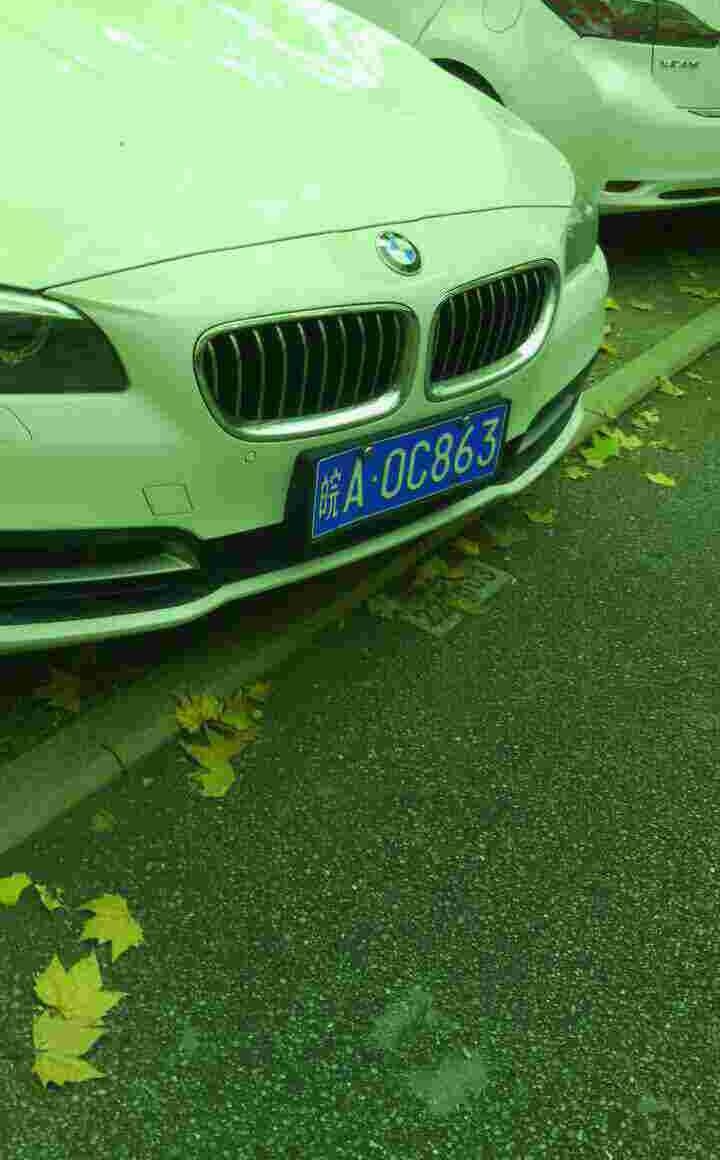license_plate: (313, 402, 505, 540)
